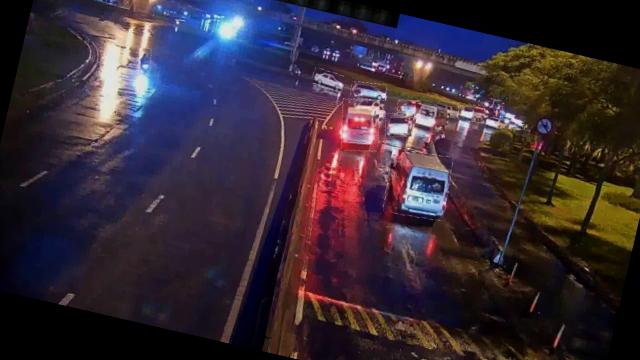Bike: (136, 47, 154, 76)
Bus: (380, 145, 456, 223), (334, 94, 386, 156), (412, 104, 446, 130)
Car: (382, 108, 417, 140), (350, 78, 389, 104), (312, 68, 346, 92), (456, 102, 486, 124), (396, 98, 420, 120)
